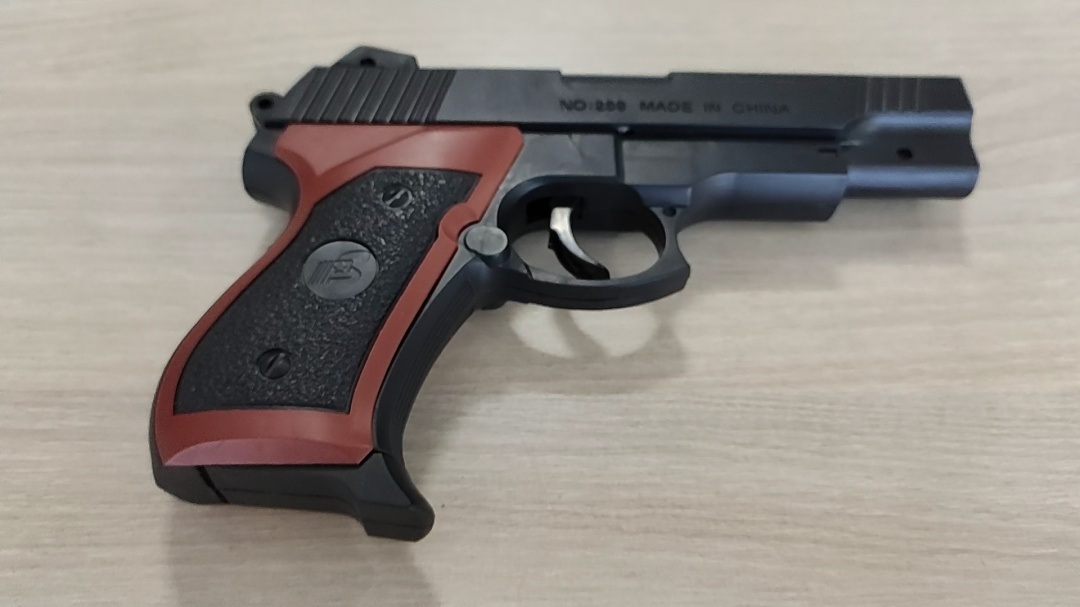gun: (203, 138, 428, 261)
